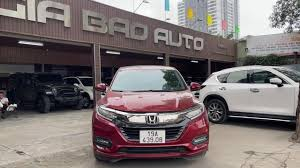Bien-so: (141, 130, 167, 144)
